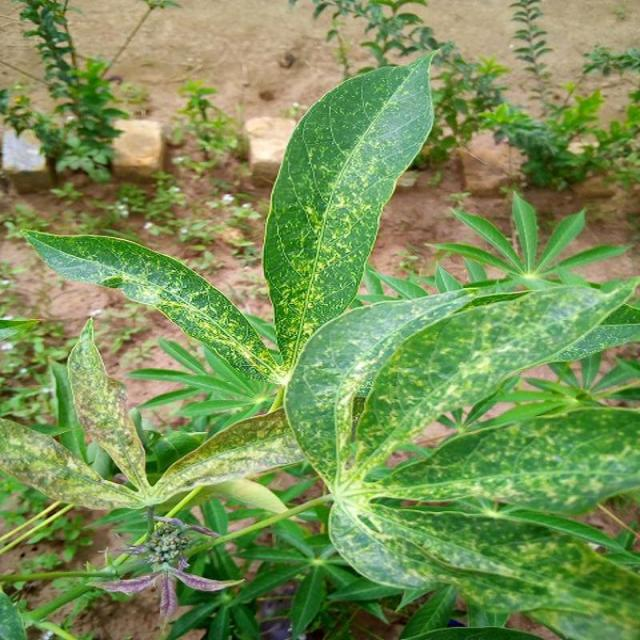cassava leaf: (1, 48, 638, 637), (260, 46, 441, 374), (22, 226, 284, 392)
